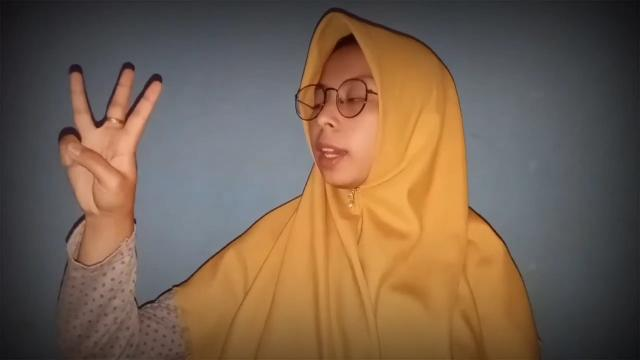W: (53, 58, 163, 222)
